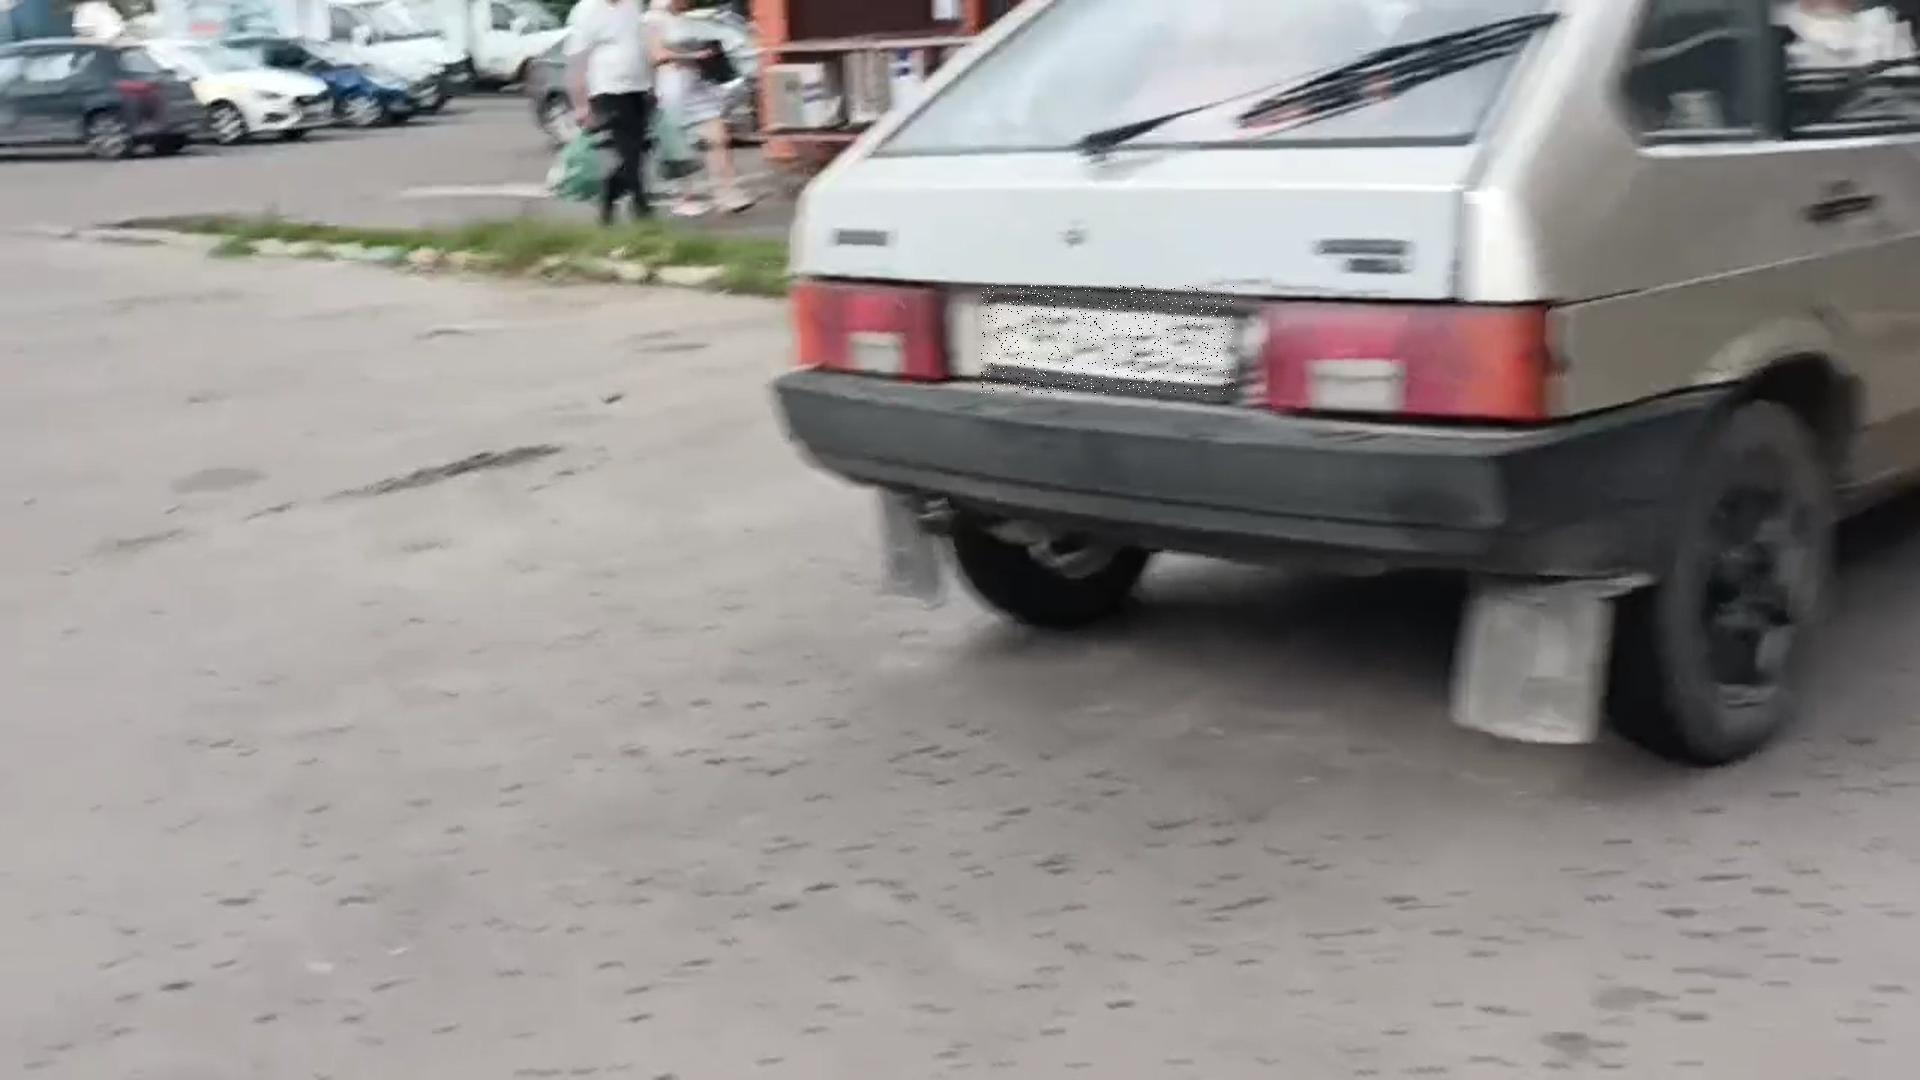plate: (982, 287, 1235, 396)
